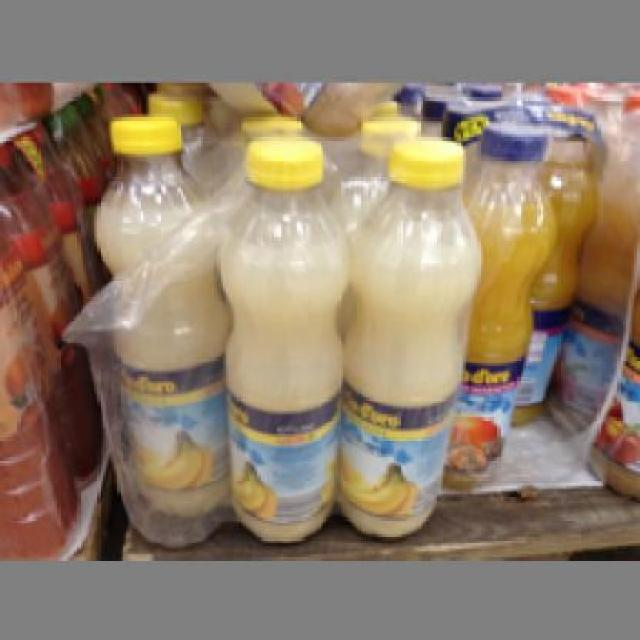Juice: (340, 130, 483, 546), (88, 111, 224, 512), (214, 131, 343, 544)
